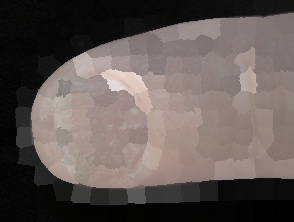Nail_psoriasis: (26, 61, 168, 194)
